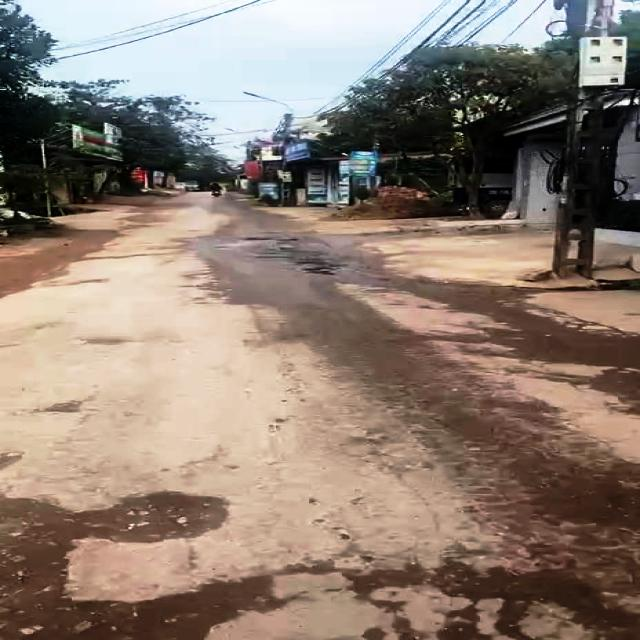pothole: (0, 485, 283, 640), (336, 553, 640, 640), (513, 453, 640, 556)
